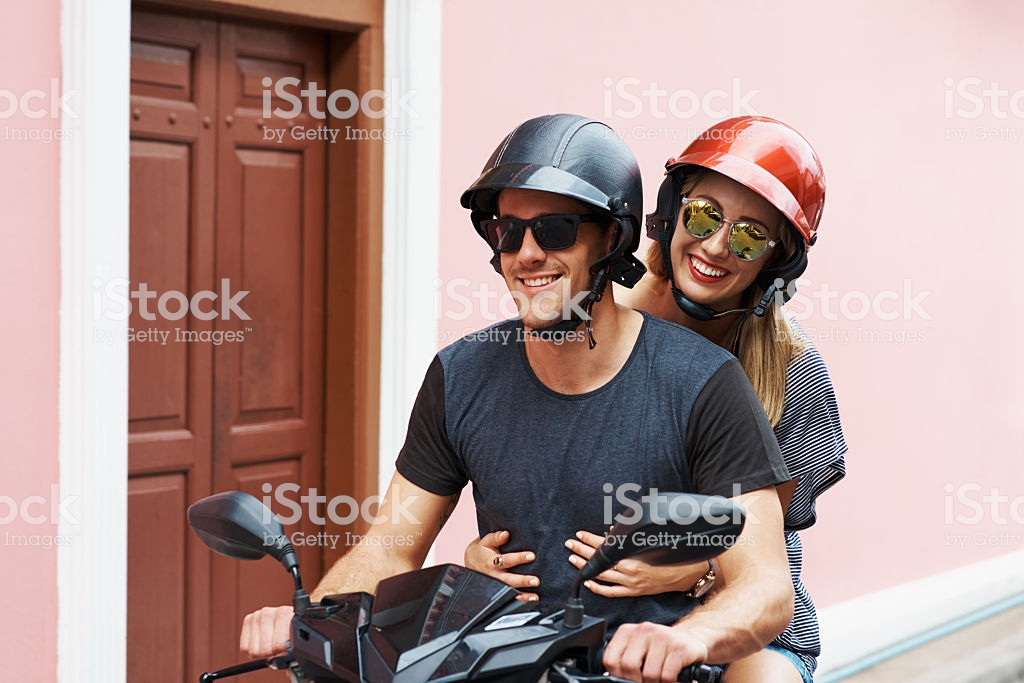helmet: (652, 103, 822, 240), (483, 104, 644, 245)
